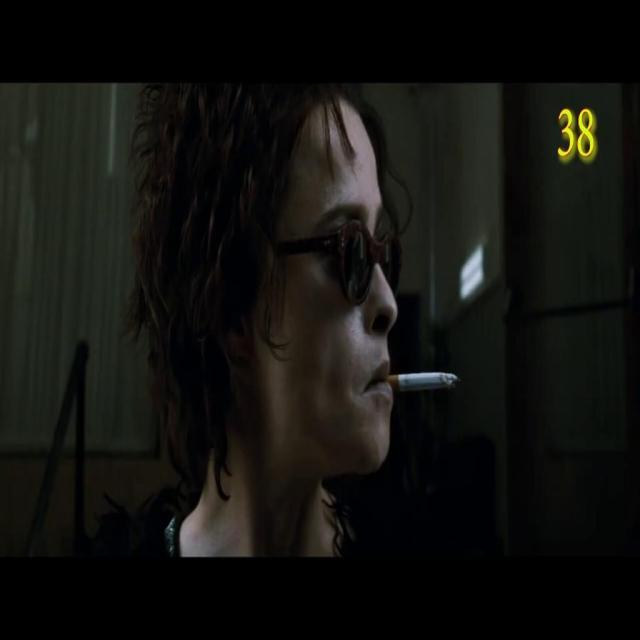smoking: (387, 371, 461, 392)
